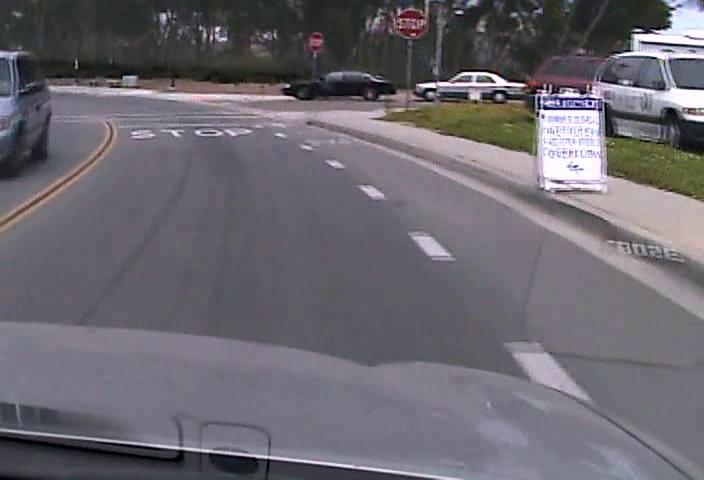stop: (394, 8, 427, 39)
